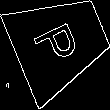P_NE: (32, 16, 88, 70)
